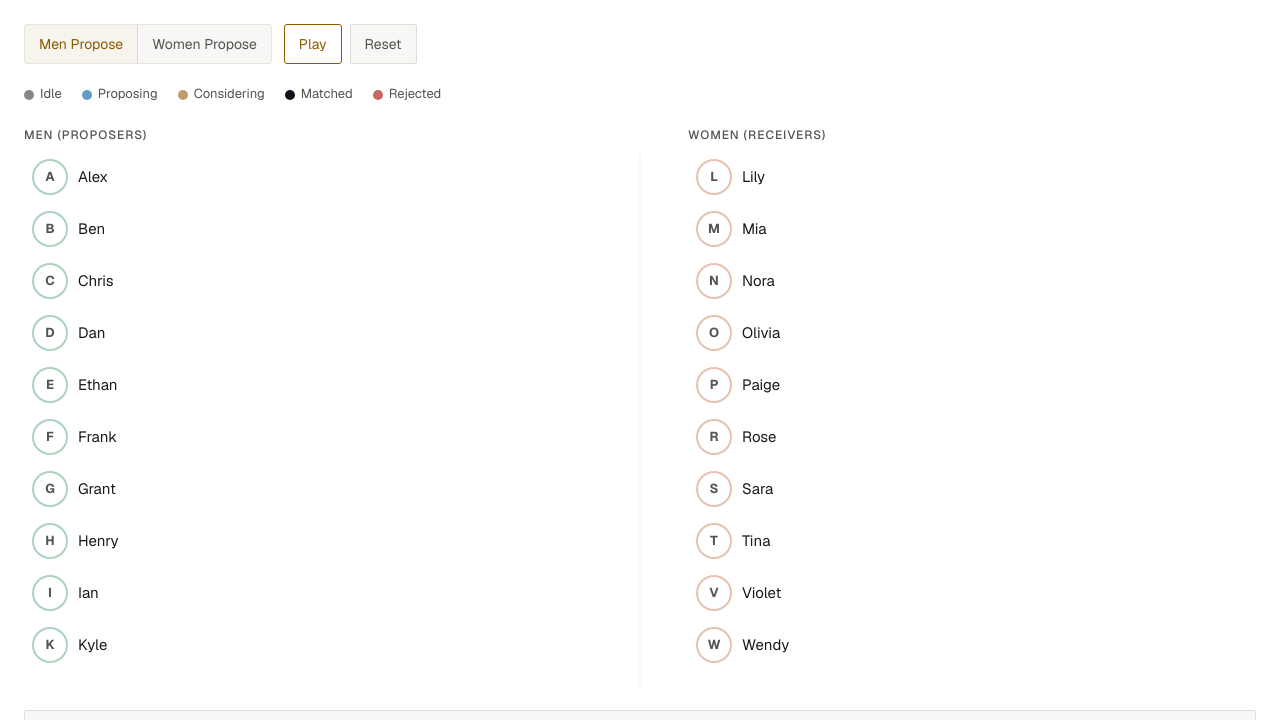
Test: stable matching completion › keeps the finished result complete after the playback loop returns
Click the button "Play".
click(313, 44)  # box [284,24,342,64]
Wait 31000 ms
(page scrolled)
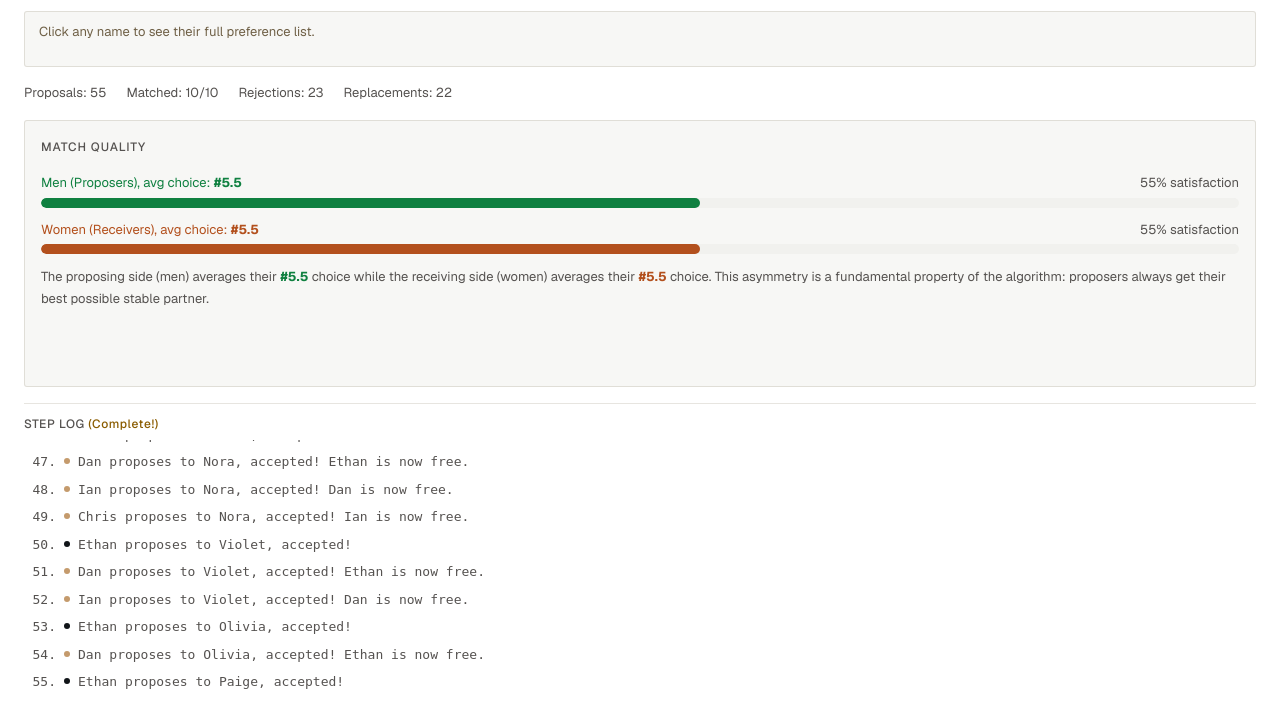
Now the element with class "gs-stats" shows "Matched: 10/10", box [24,84,452,101]
Now the text "(Complete!)" is shown, box [88,416,159,432]
